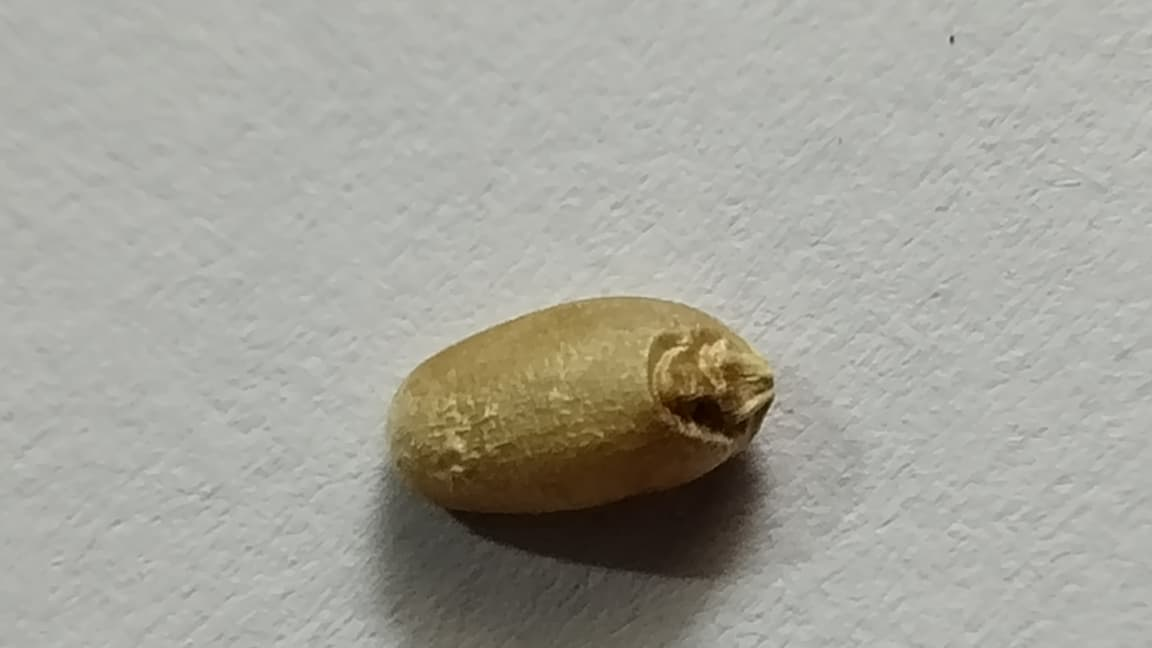healthy: (383, 292, 774, 519)
